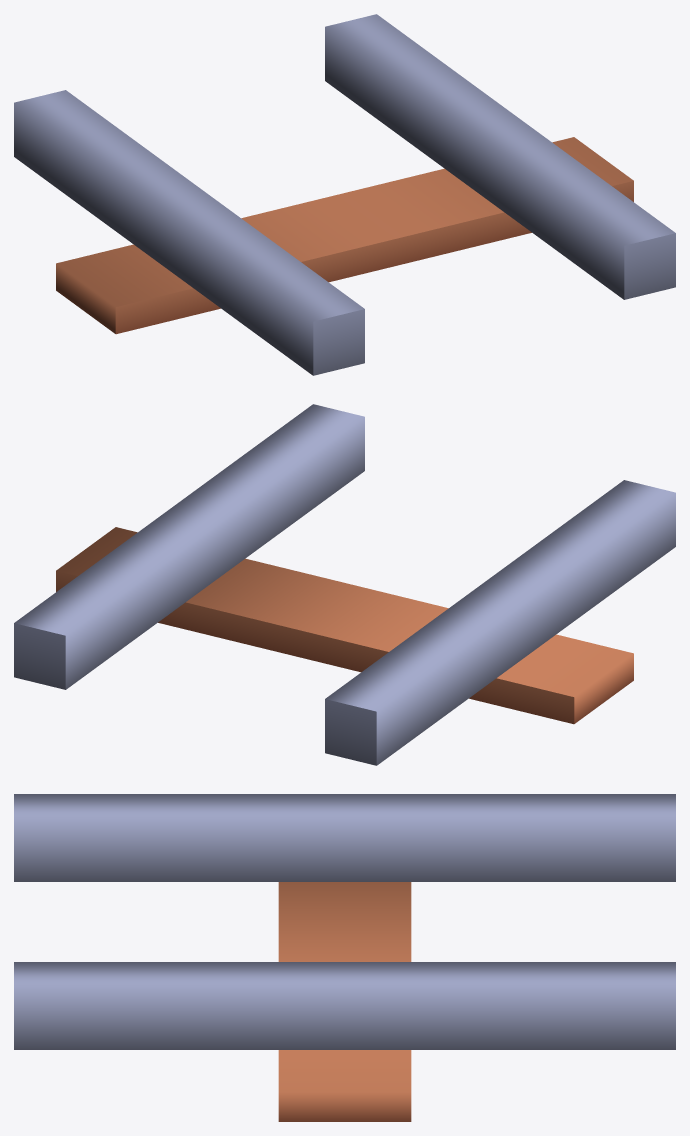
Rendered from track-single.glb.
3 views of the same model, one above another, from view 1: azimuth 30°, elevation 25°; view 2: azimuth 150°, elevation 25°; view 3: azimuth 270°, elevation 25° (orthographic). The views are drawn at different scales.
Visible parts, largest first — view 1: track-single; view 2: track-single; view 3: track-single.
Part boxes in pixels (<box>): track-single: <box>14,14,675,375</box>; track-single: <box>14,404,675,765</box>; track-single: <box>14,794,675,1121</box>.
Bounding box in the file's own units: 1 × 0.15 × 1.
